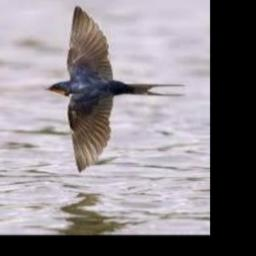Swallow: (46, 6, 187, 173)
